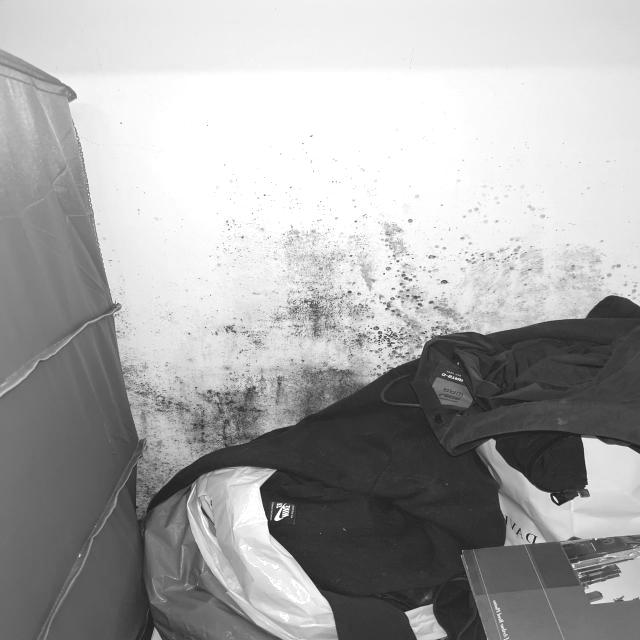stain marks: (106, 110, 640, 320), (115, 323, 492, 529)
